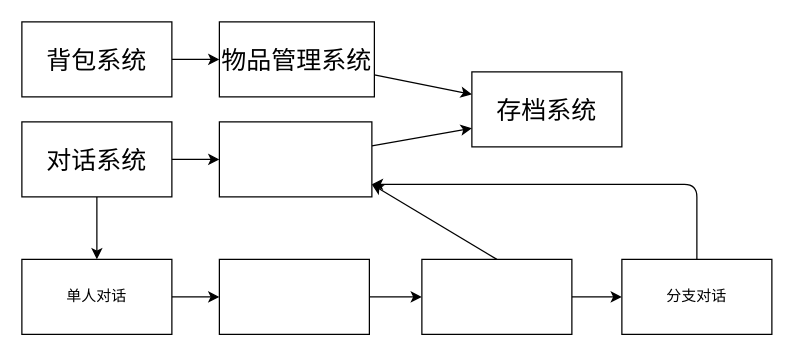
Some shapes in this 794 by 356 pixel diagram are drawn without their labels. Each missing label, with the centre of its shape:
事件总线: (x=295, y=159)
多人对话: (x=293, y=296)
选项对话: (x=496, y=296)
